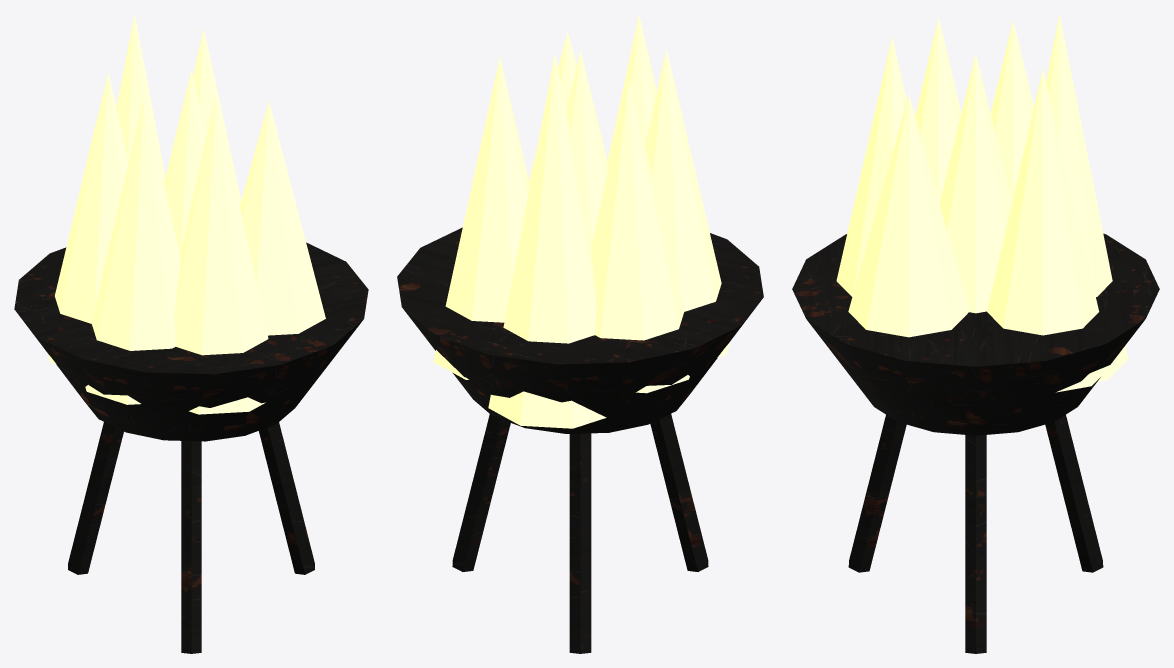
Rendered from Brazier.fbx.
3 renders of one model, left to right at view 1: azimuth 30°, elevation 25°; view 2: azimuth 150°, elevation 25°; view 3: azimuth 270°, elevation 25°, orthographic. The views are drawn at different scales.
Visible parts, largest first — view 1: Brazier; view 2: Brazier; view 3: Brazier.
Part boxes in pixels (bbox=[...]): Brazier: bbox=[14, 14, 368, 653]; Brazier: bbox=[397, 14, 763, 653]; Brazier: bbox=[792, 15, 1159, 653].
Size of the model in its own units: 1.5 by 2.59 by 1.5.
